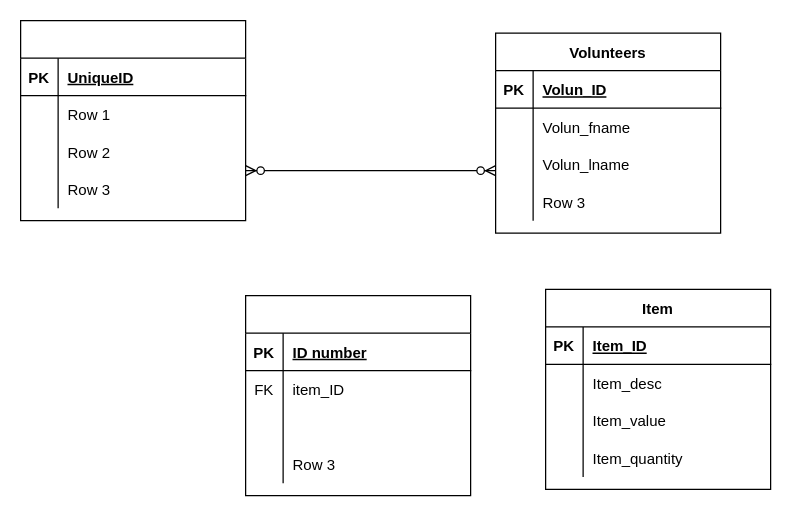
This 791x516 diagram has some shape labels left out. The box of each missing label's shape, as (x1, y1, x2, y2) in pixels:
Package: (244, 294, 471, 496)
Task: (19, 19, 246, 221)
